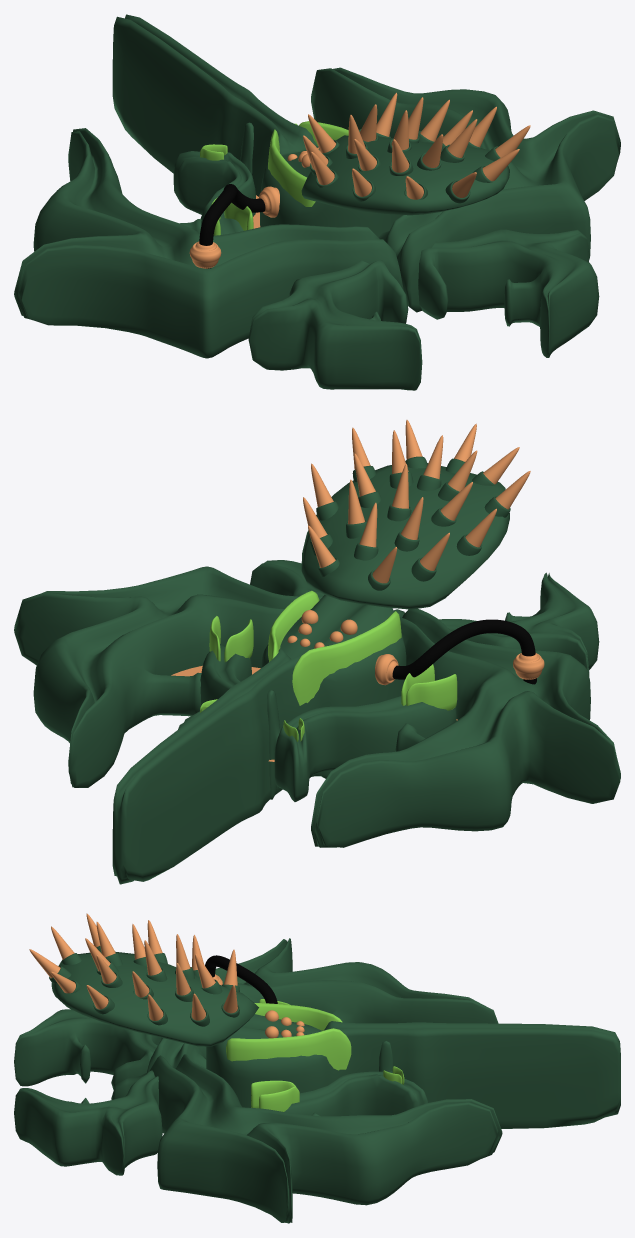
The model's file is SwiftSpace-Spider3.fbx.
The picture shows the model from 3 angles, top to bottom: view 1: azimuth 30°, elevation 25°; view 2: azimuth 150°, elevation 25°; view 3: azimuth 270°, elevation 25°; orthographic projection. The views are drawn at different scales.
Parts seen in each view (by area): view 1: Cube.004; view 2: Cube.004; view 3: Cube.004.
Boxes of the visible parts, bbox=[...] form: Cube.004: bbox=[14, 14, 620, 390]; Cube.004: bbox=[14, 420, 620, 884]; Cube.004: bbox=[14, 913, 620, 1223].
Bounding box in the file's own units: 293 × 116 × 307.
